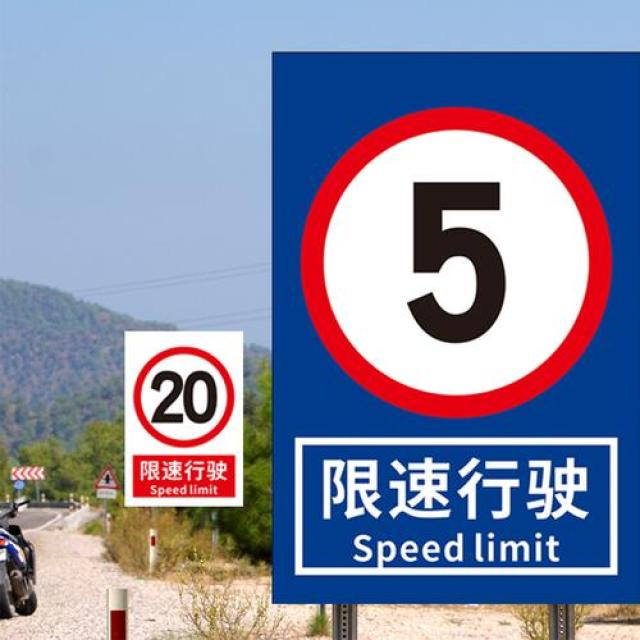speed limit 10: (297, 107, 612, 420)
speed limit 20: (133, 348, 234, 449)
